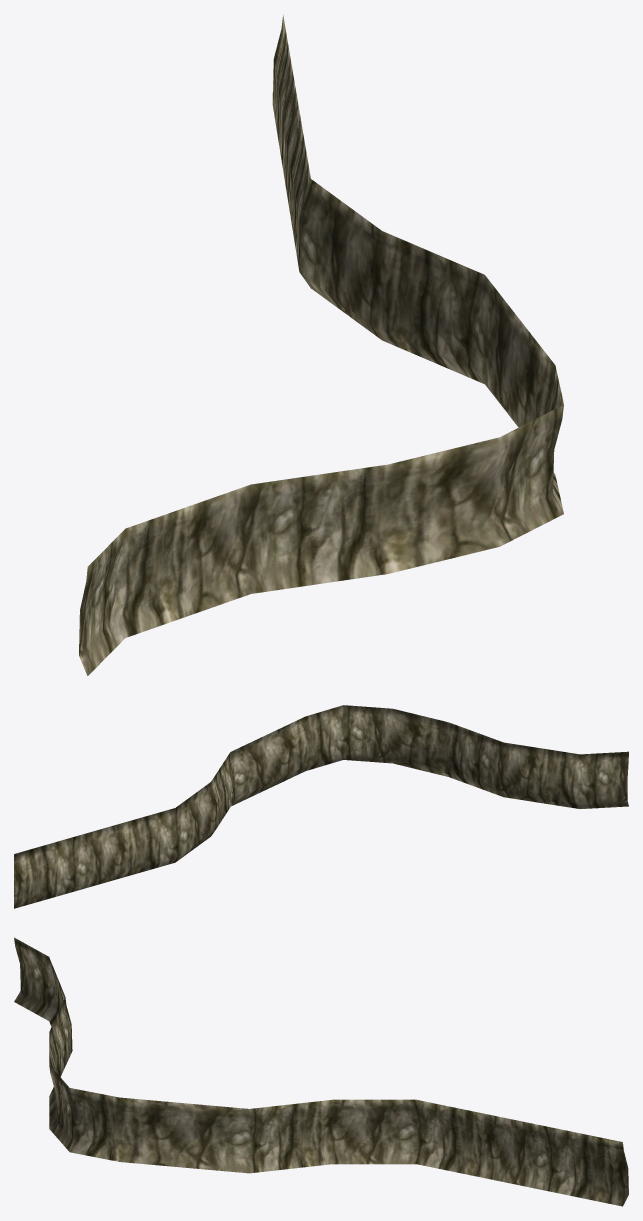
The model's file is CB_NEWPLAYSURFACE_CB_PLAYSURFACE117.fbx.
3 renders of one model, top to bottom at view 1: azimuth 30°, elevation 25°; view 2: azimuth 150°, elevation 25°; view 3: azimuth 270°, elevation 25°, orthographic. The views are drawn at different scales.
Visible parts, largest first — view 1: CB_NEWPLAYSURFACE_CB_PLAYSURFACE117; view 2: CB_NEWPLAYSURFACE_CB_PLAYSURFACE117; view 3: CB_NEWPLAYSURFACE_CB_PLAYSURFACE117.
Part boxes in pixels (x1=…): CB_NEWPLAYSURFACE_CB_PLAYSURFACE117: x1=79, y1=15, x2=563, y2=675; CB_NEWPLAYSURFACE_CB_PLAYSURFACE117: x1=14, y1=705, x2=628, y2=908; CB_NEWPLAYSURFACE_CB_PLAYSURFACE117: x1=14, y1=937, x2=628, y2=1206.
Size of the model in its own units: 273498 by 40000 by 345778.
Materials: 1 (1 with a texture image).
